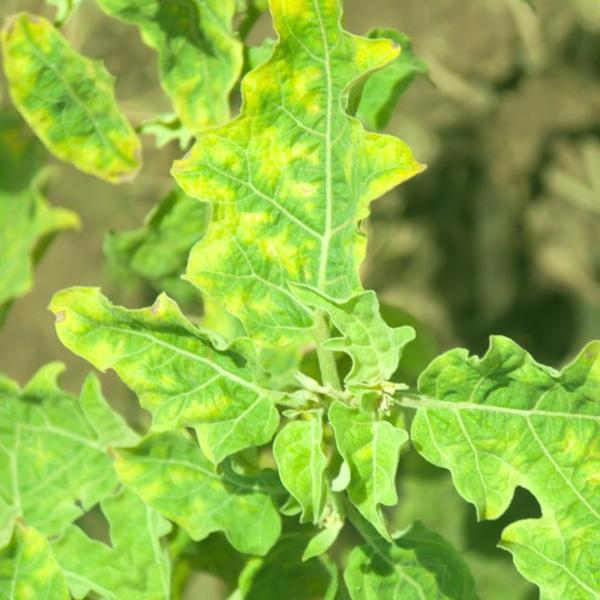Tomato leaf mosaic virus: (64, 0, 518, 390), (24, 208, 312, 518), (365, 264, 600, 547), (291, 380, 453, 548), (273, 244, 425, 409)
